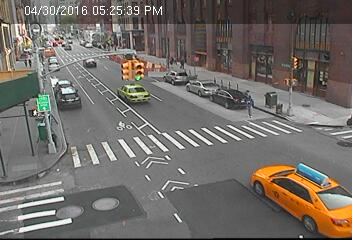neg: (249, 160, 269, 187), (126, 27, 139, 45), (136, 102, 149, 120), (184, 132, 197, 148), (49, 66, 59, 80), (22, 33, 31, 46), (61, 90, 70, 103), (28, 106, 36, 117), (132, 70, 140, 80), (83, 186, 91, 196), (110, 29, 116, 38), (46, 34, 52, 42)
pos: (238, 89, 258, 116), (178, 56, 187, 68), (20, 56, 28, 67), (169, 55, 177, 66), (26, 57, 33, 67)
